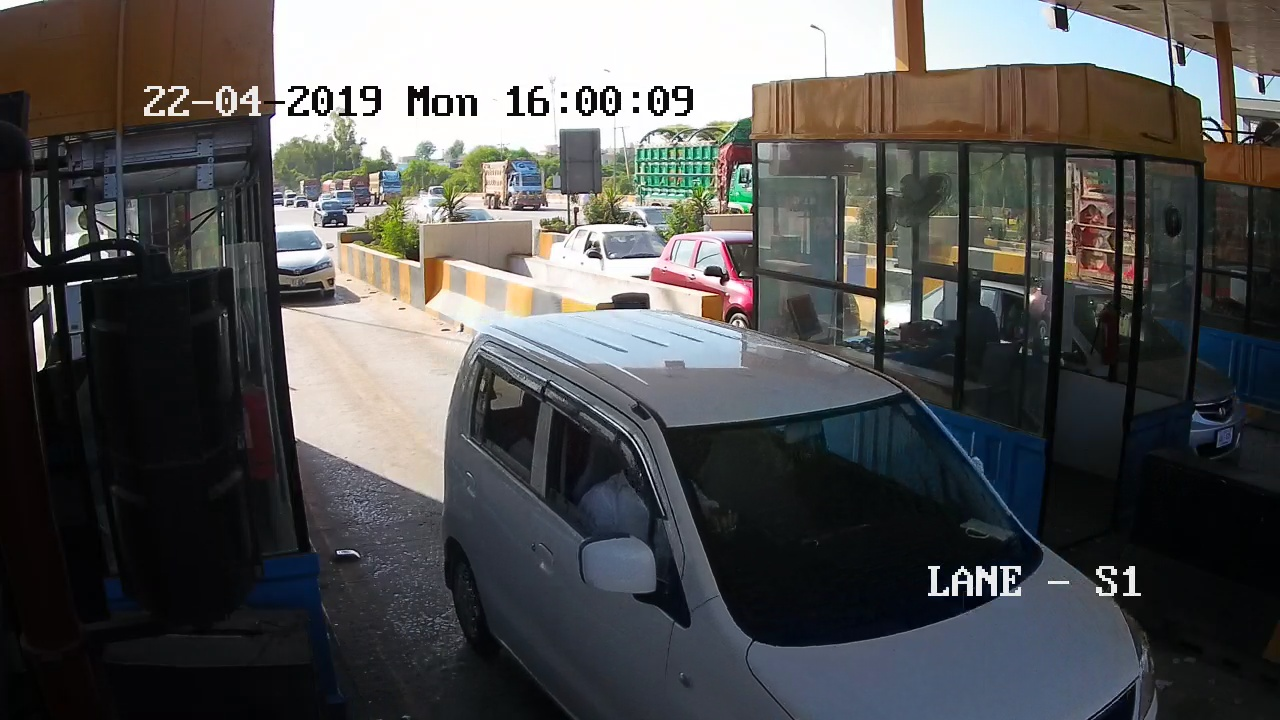car: (429, 313, 1165, 720), (275, 228, 343, 315)
